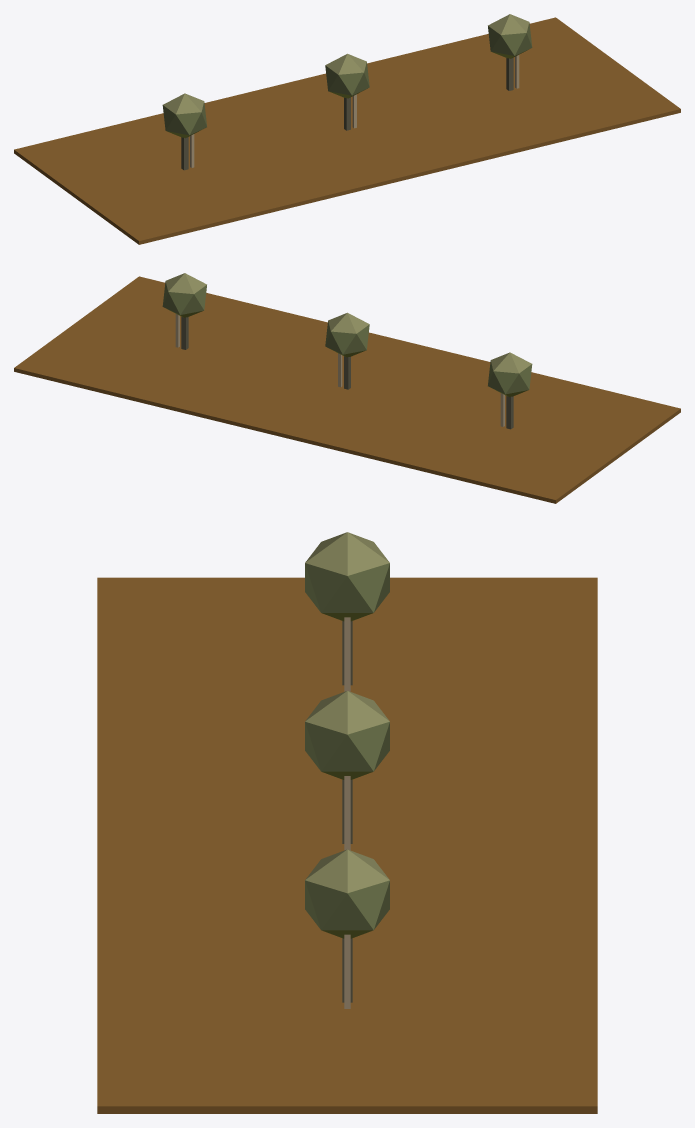
The model's file is SM_Naranjos_v0_Plantones_LOD0.fbx.
3 views of the same model, one above another, from view 1: azimuth 30°, elevation 25°; view 2: azimuth 150°, elevation 25°; view 3: azimuth 270°, elevation 25° (orthographic). The views are drawn at different scales.
Visible parts, largest first — view 1: SM_viveres_nules_v0_LOD0; view 2: SM_viveres_nules_v0_LOD0; view 3: SM_viveres_nules_v0_LOD0.
Part boxes in pixels (bbox=[...]): SM_viveres_nules_v0_LOD0: bbox=[14, 14, 680, 244]; SM_viveres_nules_v0_LOD0: bbox=[14, 273, 680, 503]; SM_viveres_nules_v0_LOD0: bbox=[97, 532, 597, 1113].
Size of the model in its own units: 6 by 0.84 by 2.4.
